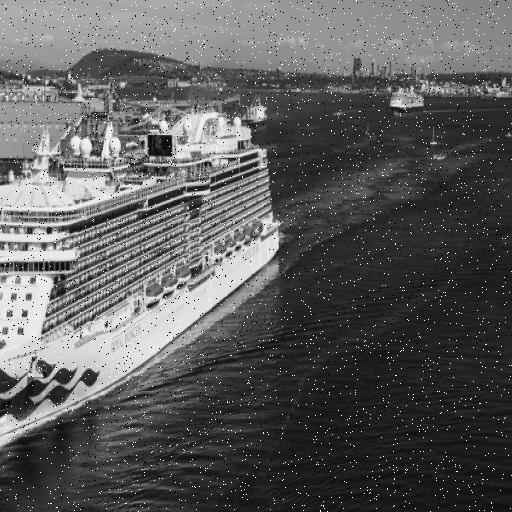cruises: (1, 76, 294, 467), (385, 75, 428, 122)
